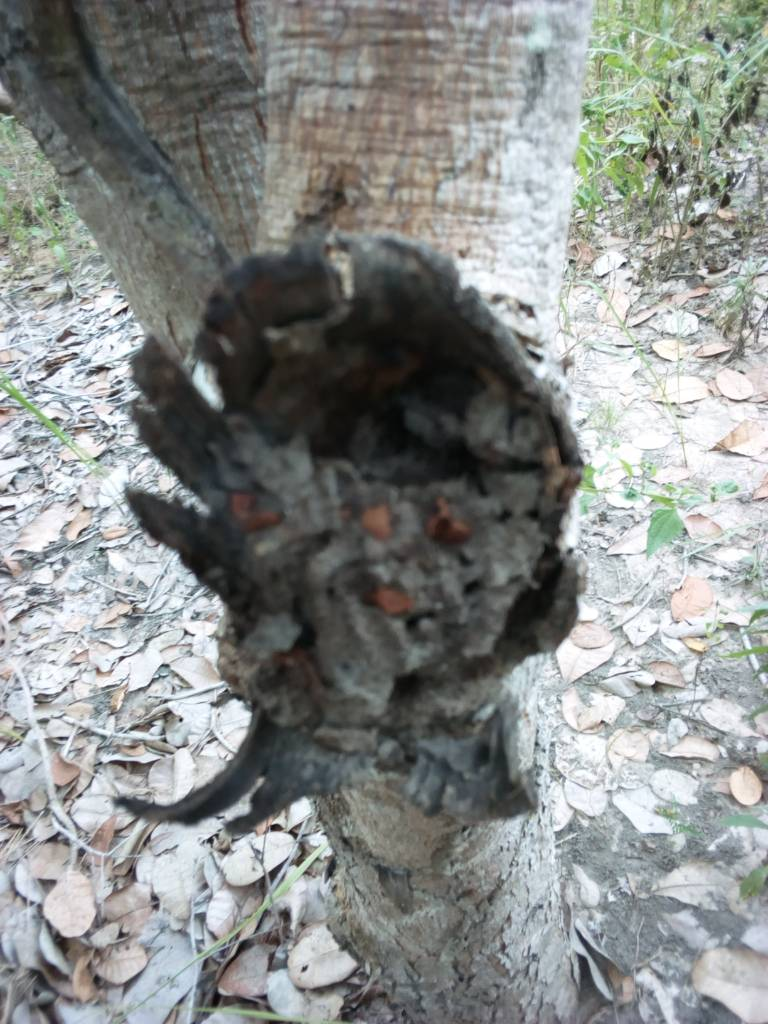Termites: (350, 814, 535, 1024)
